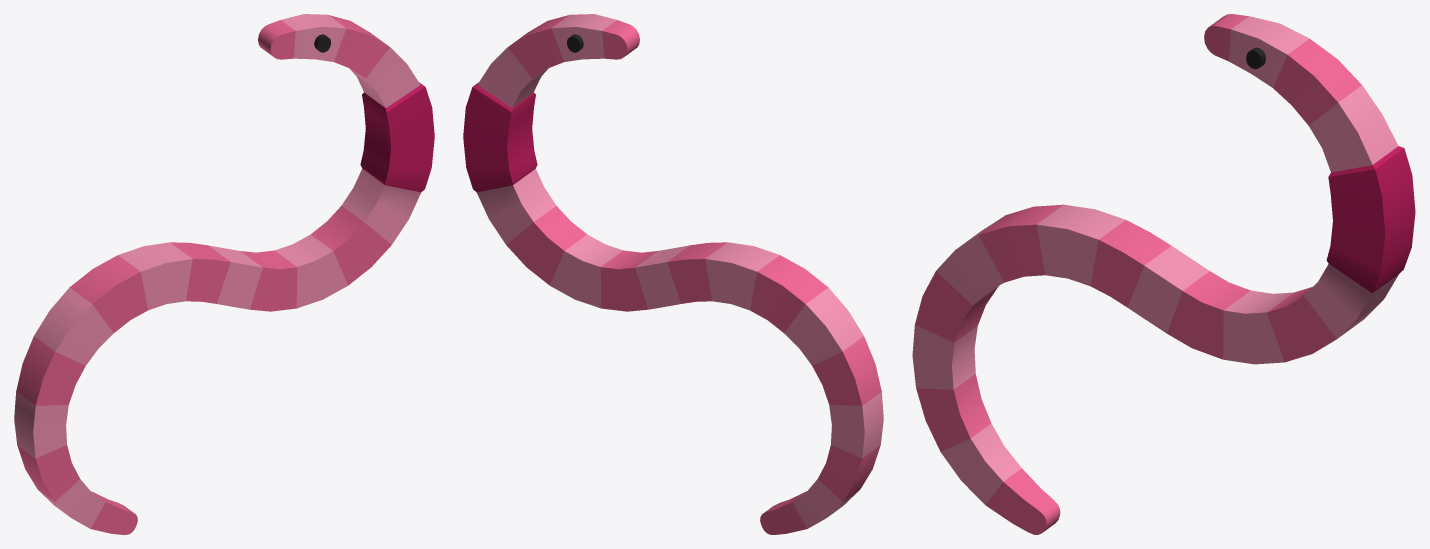
The model's file is worm.glb.
3 renders of one model, left to right at view 1: azimuth 30°, elevation 25°; view 2: azimuth 150°, elevation 25°; view 3: azimuth 330°, elevation 25°, orthographic. The views are drawn at different scales.
Visible parts, largest first — view 1: Circle.2010; view 2: Circle.2010; view 3: Circle.2010.
Part boxes in pixels (x1,y1,x2,y2): Circle.2010: [14, 14, 434, 534]; Circle.2010: [463, 14, 883, 534]; Circle.2010: [912, 14, 1415, 534].
Bounding box in the file's own units: 1.97 × 2.19 × 0.2157.
1 material, 1 textured.
